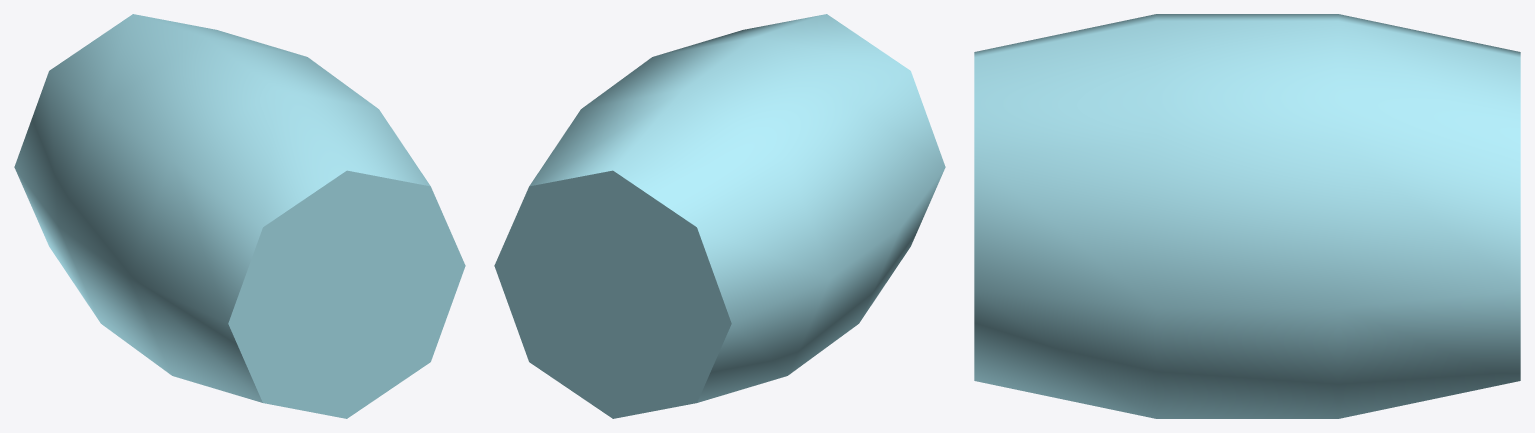
3 renders of one model, left to right at view 1: azimuth 30°, elevation 25°; view 2: azimuth 150°, elevation 25°; view 3: azimuth 270°, elevation 25°, orthographic. The views are drawn at different scales.
Parts seen in each view (by area): view 1: Object15; view 2: Object15; view 3: Object15.
Boxes of the visible parts, left/top/right/bottom form: Object15: left=14, top=14, right=465, bottom=418; Object15: left=494, top=14, right=945, bottom=418; Object15: left=974, top=14, right=1520, bottom=418.
Size of the model in its own units: 8127 by 8127 by 10298.
